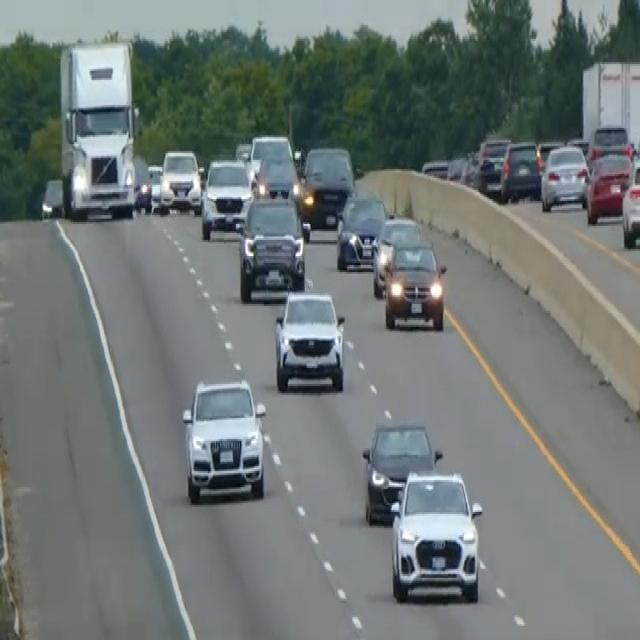car: (180, 375, 267, 503), (360, 418, 442, 524), (273, 286, 346, 393), (237, 190, 307, 300), (382, 240, 447, 331), (299, 144, 354, 228), (200, 155, 252, 240), (370, 213, 421, 297), (335, 188, 386, 270), (585, 149, 631, 224), (540, 142, 589, 212), (500, 137, 541, 203), (159, 148, 201, 212), (246, 130, 294, 183), (253, 150, 300, 204), (476, 135, 511, 197), (586, 121, 632, 167), (621, 155, 639, 247), (132, 153, 152, 213), (39, 176, 65, 220), (146, 162, 163, 210), (420, 154, 449, 178)
jeep: (388, 466, 484, 604)
lorry: (57, 38, 139, 220)
